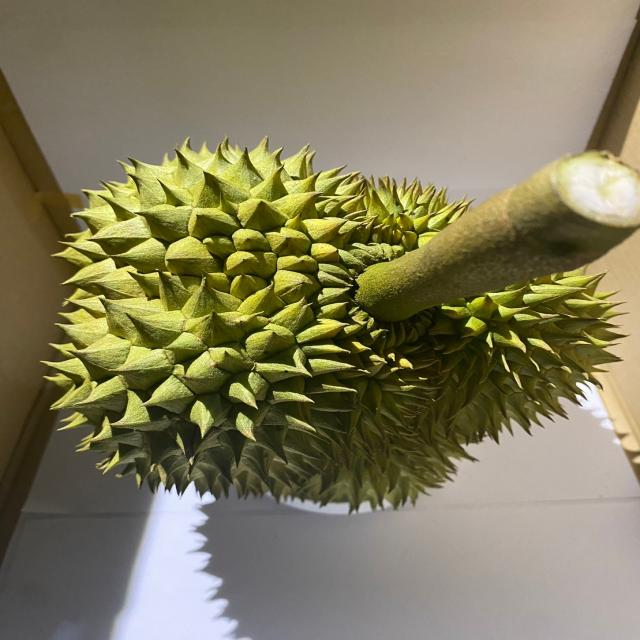immature: (42, 134, 626, 512)
